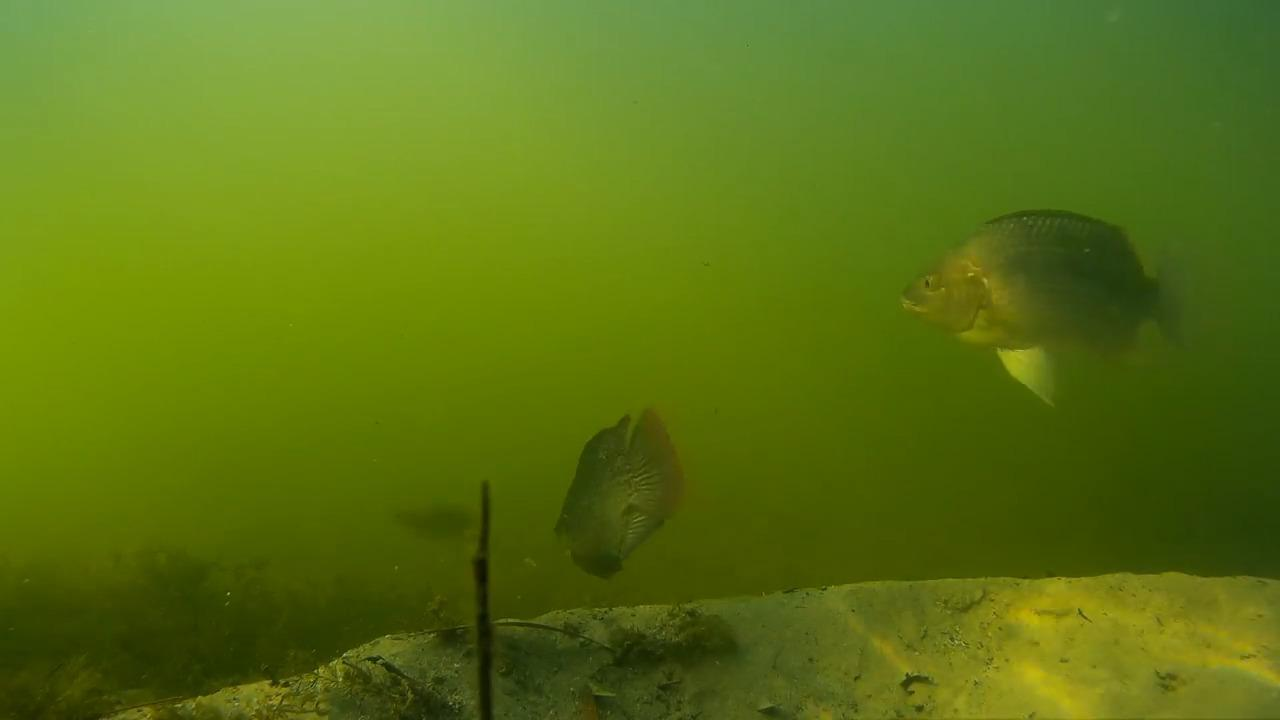Tilapia: (895, 202, 1190, 408), (692, 578, 701, 586)
